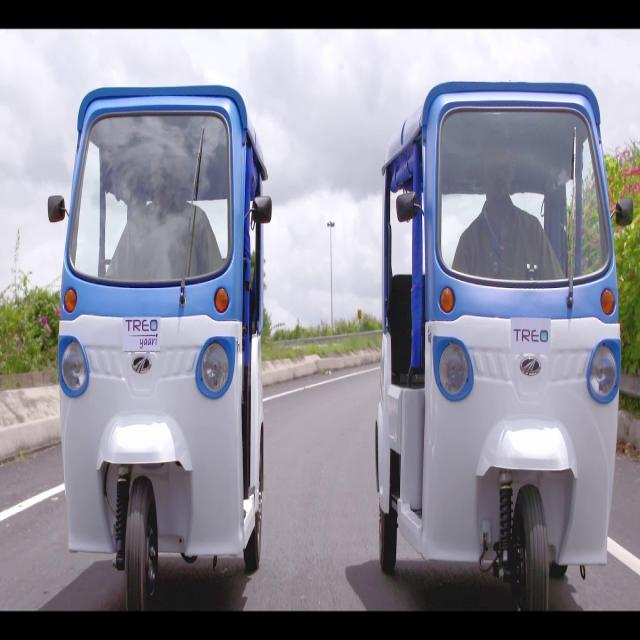autorickshaw: (375, 82, 620, 609), (59, 89, 271, 609)
